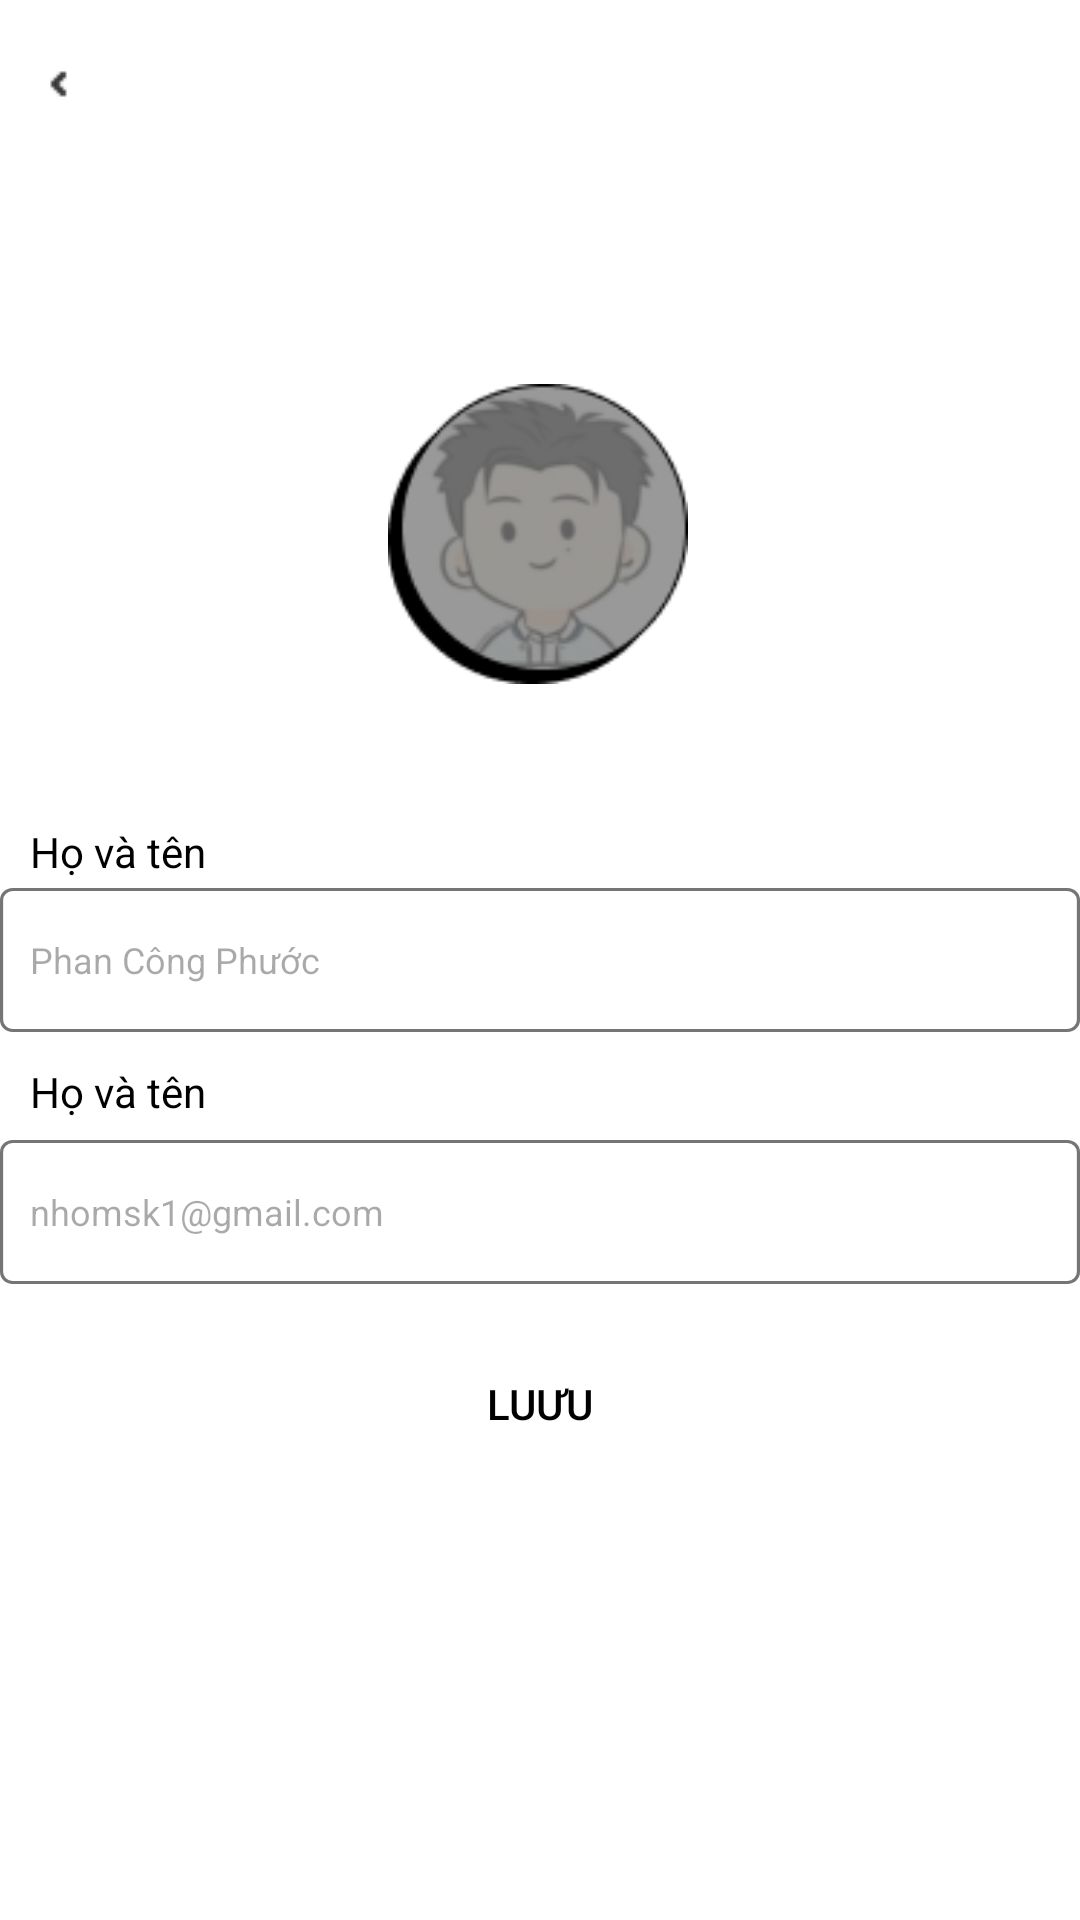

Named icons in this screenshot (1080*1920) and their bounding boxes, rect(x1, y1, x2, y2):
Back: rect(50, 71, 67, 97)
